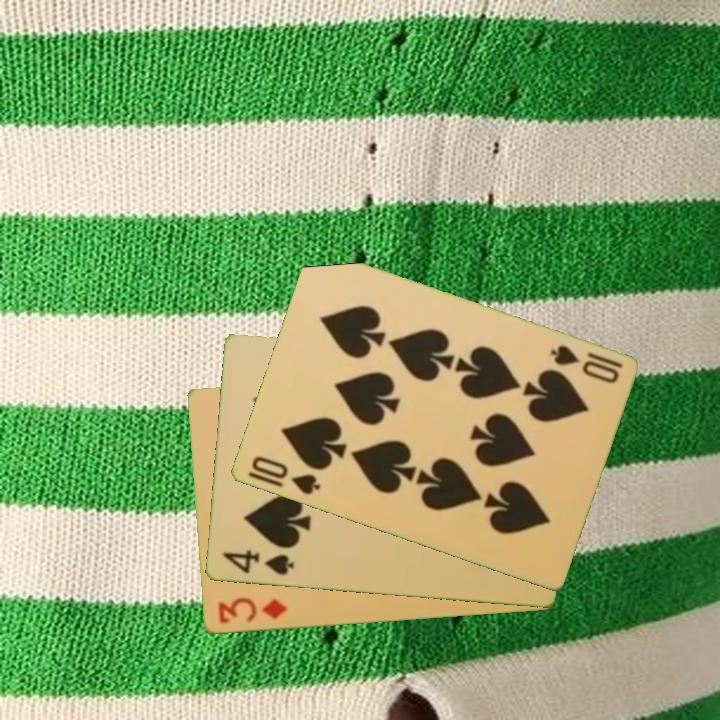10s: (546, 341, 625, 387), (247, 453, 323, 498)
3d: (214, 594, 289, 627)
4s: (218, 547, 297, 578)
